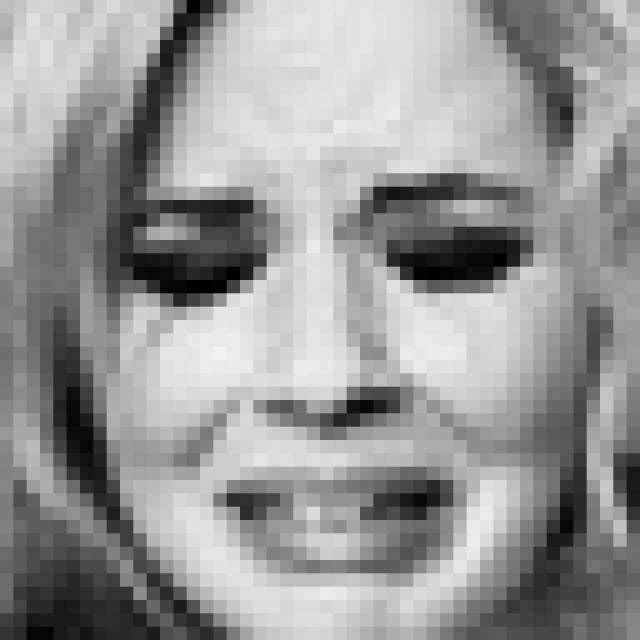sad: (111, 153, 541, 585)
